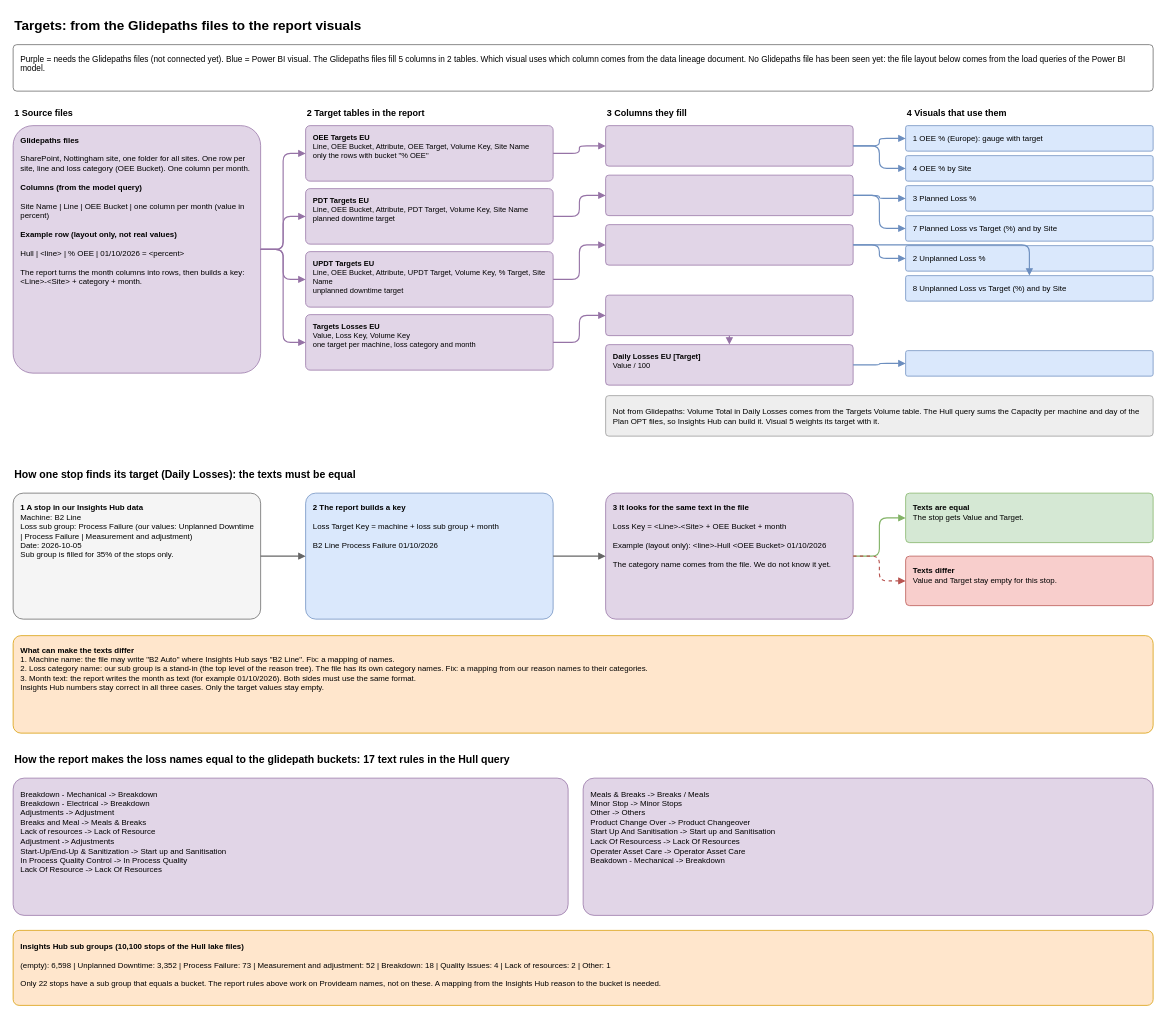
Some shapes in this 1166 by 1019 pixel diagram are drawn without their labels. The shapes that lost their labels are listed below. From the top down, each one's centre as x and y in pixels, then its label:
point (729, 145): Plan OPT EU [OEE Target] join: machine + month
point (729, 195): Plan OPT EU [PDT Target] join: machine + month
point (729, 244): Plan OPT EU [UPDT Target] join: machine + month
point (729, 315): Daily Losses EU [Value] join: machine + loss sub group + month
point (1029, 363): 5 Top 5 Loss Categories (also needs Volume Total)
